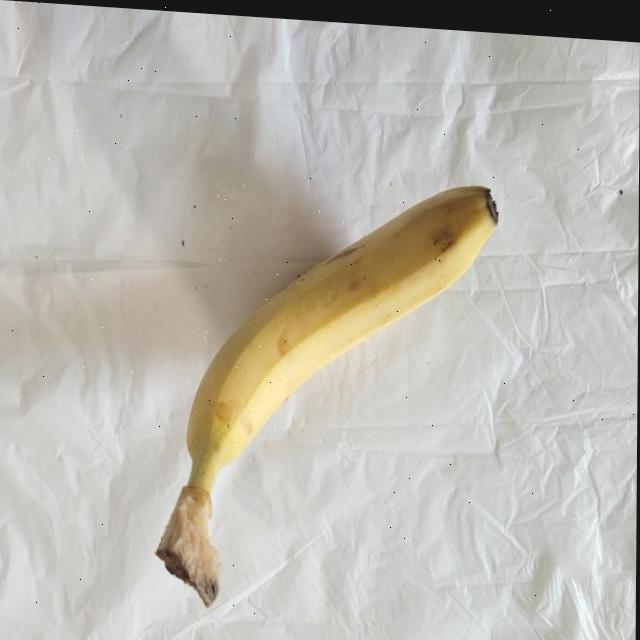banana: (147, 153, 513, 632)
